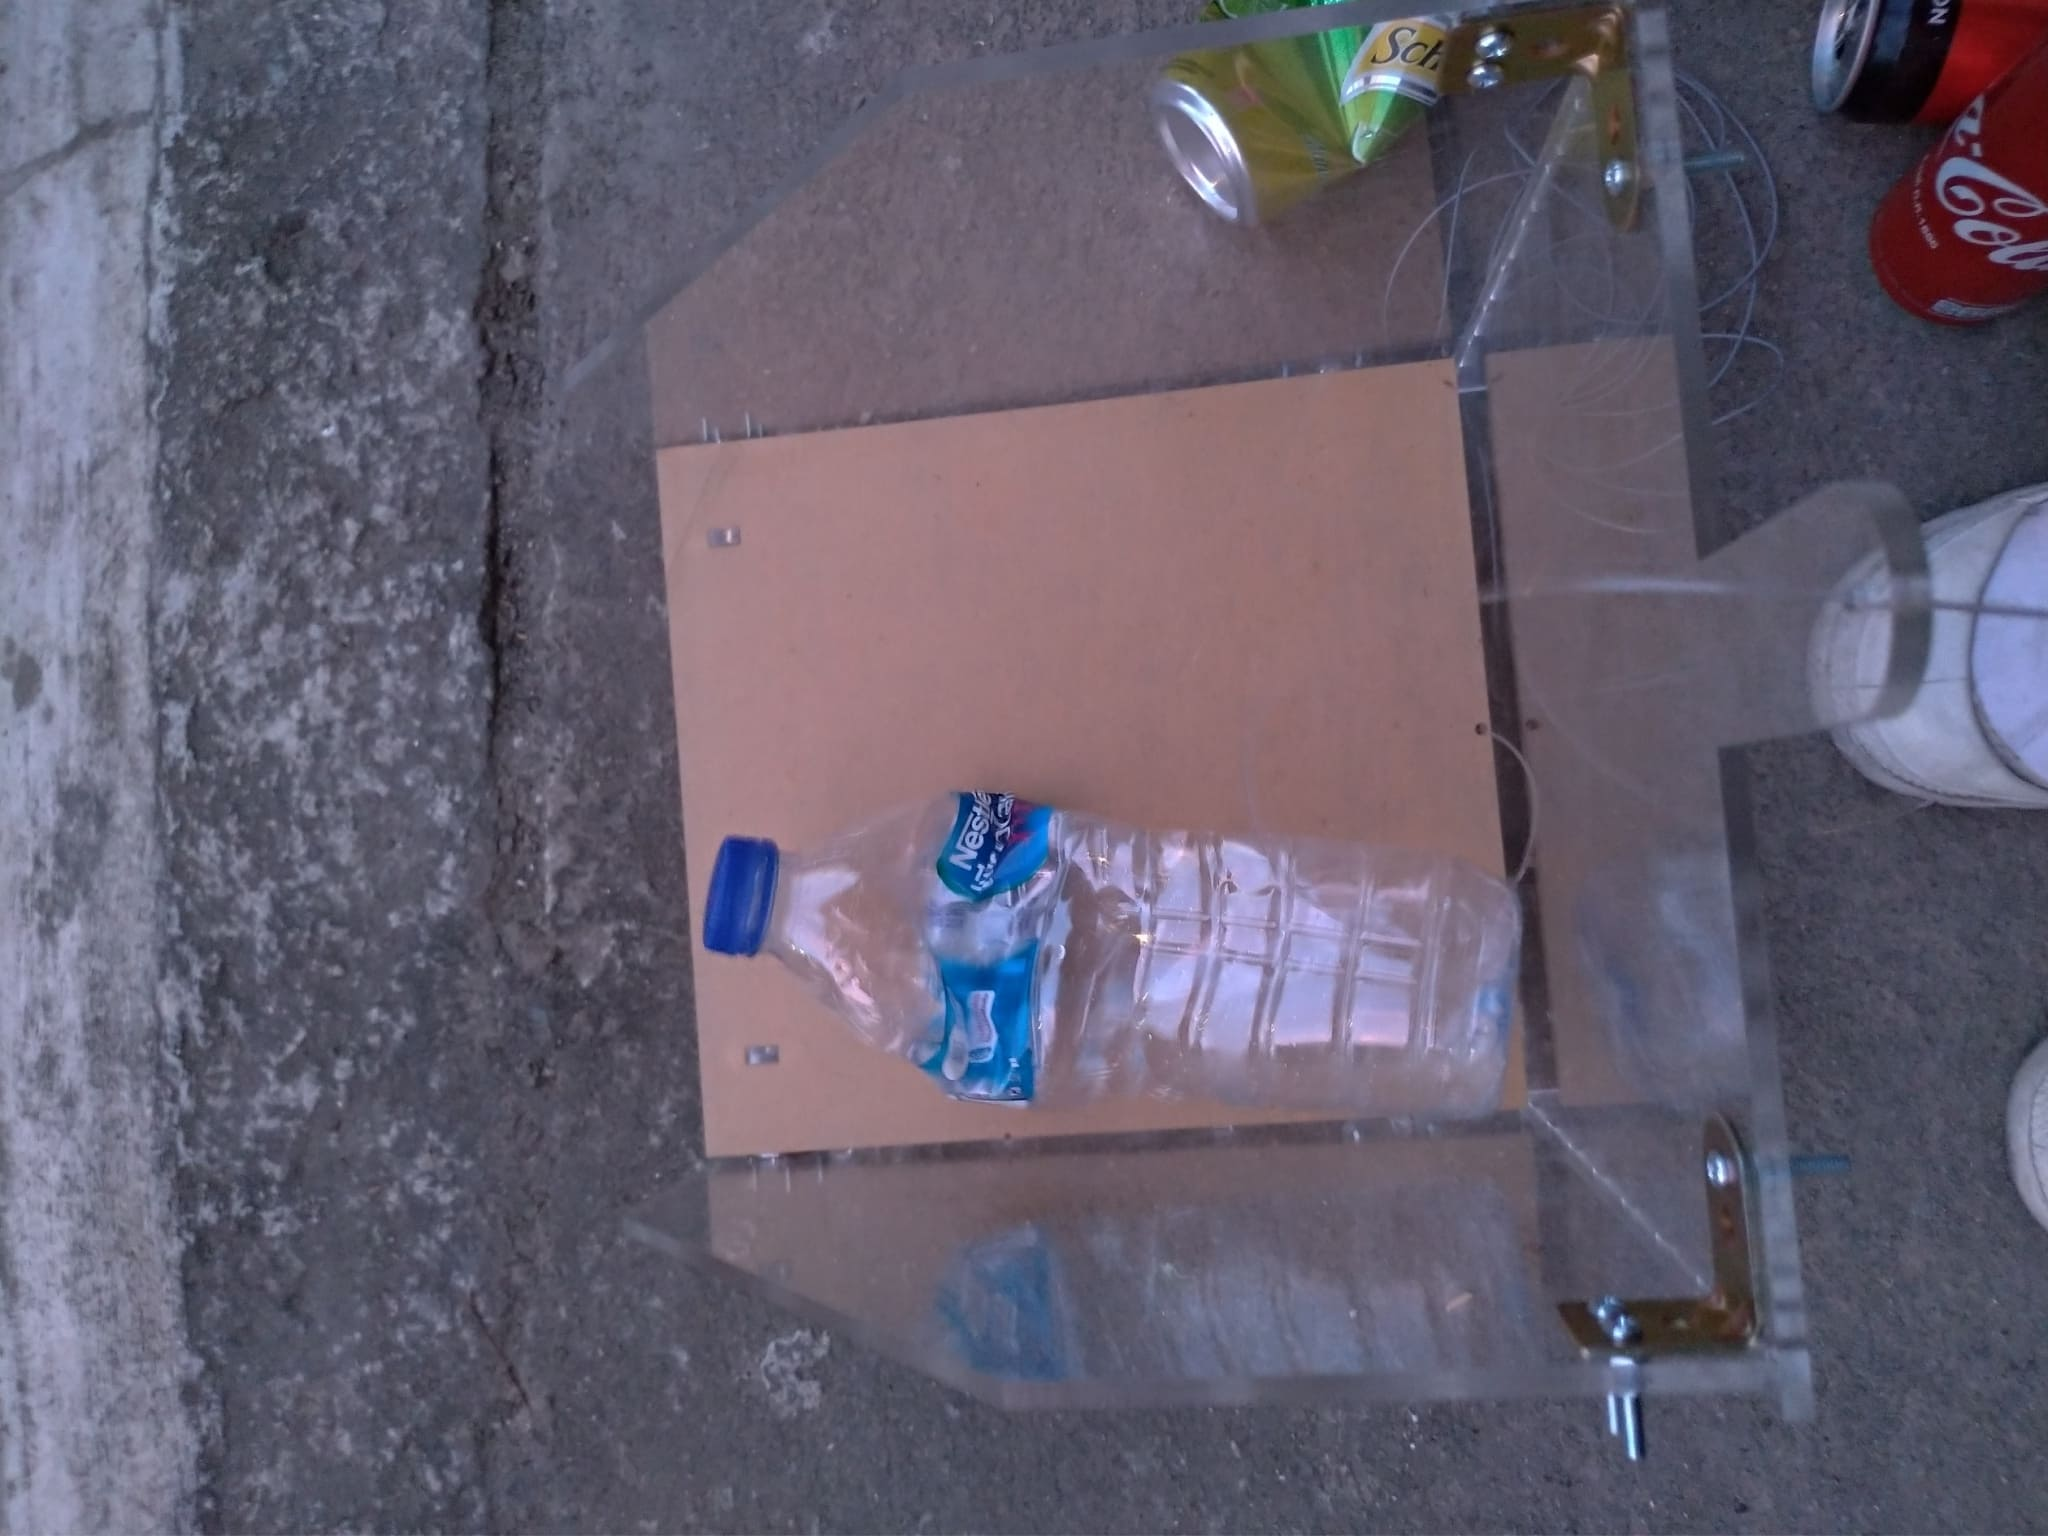AlCan: (1150, 2, 1459, 229), (1867, 45, 2048, 321), (1806, 3, 2009, 129)
PlasticBottle: (698, 787, 1522, 1126)
